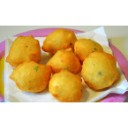bonda: (83, 52, 119, 87), (12, 62, 50, 93), (49, 70, 83, 101), (6, 33, 42, 62), (45, 27, 77, 53), (47, 51, 83, 74)
